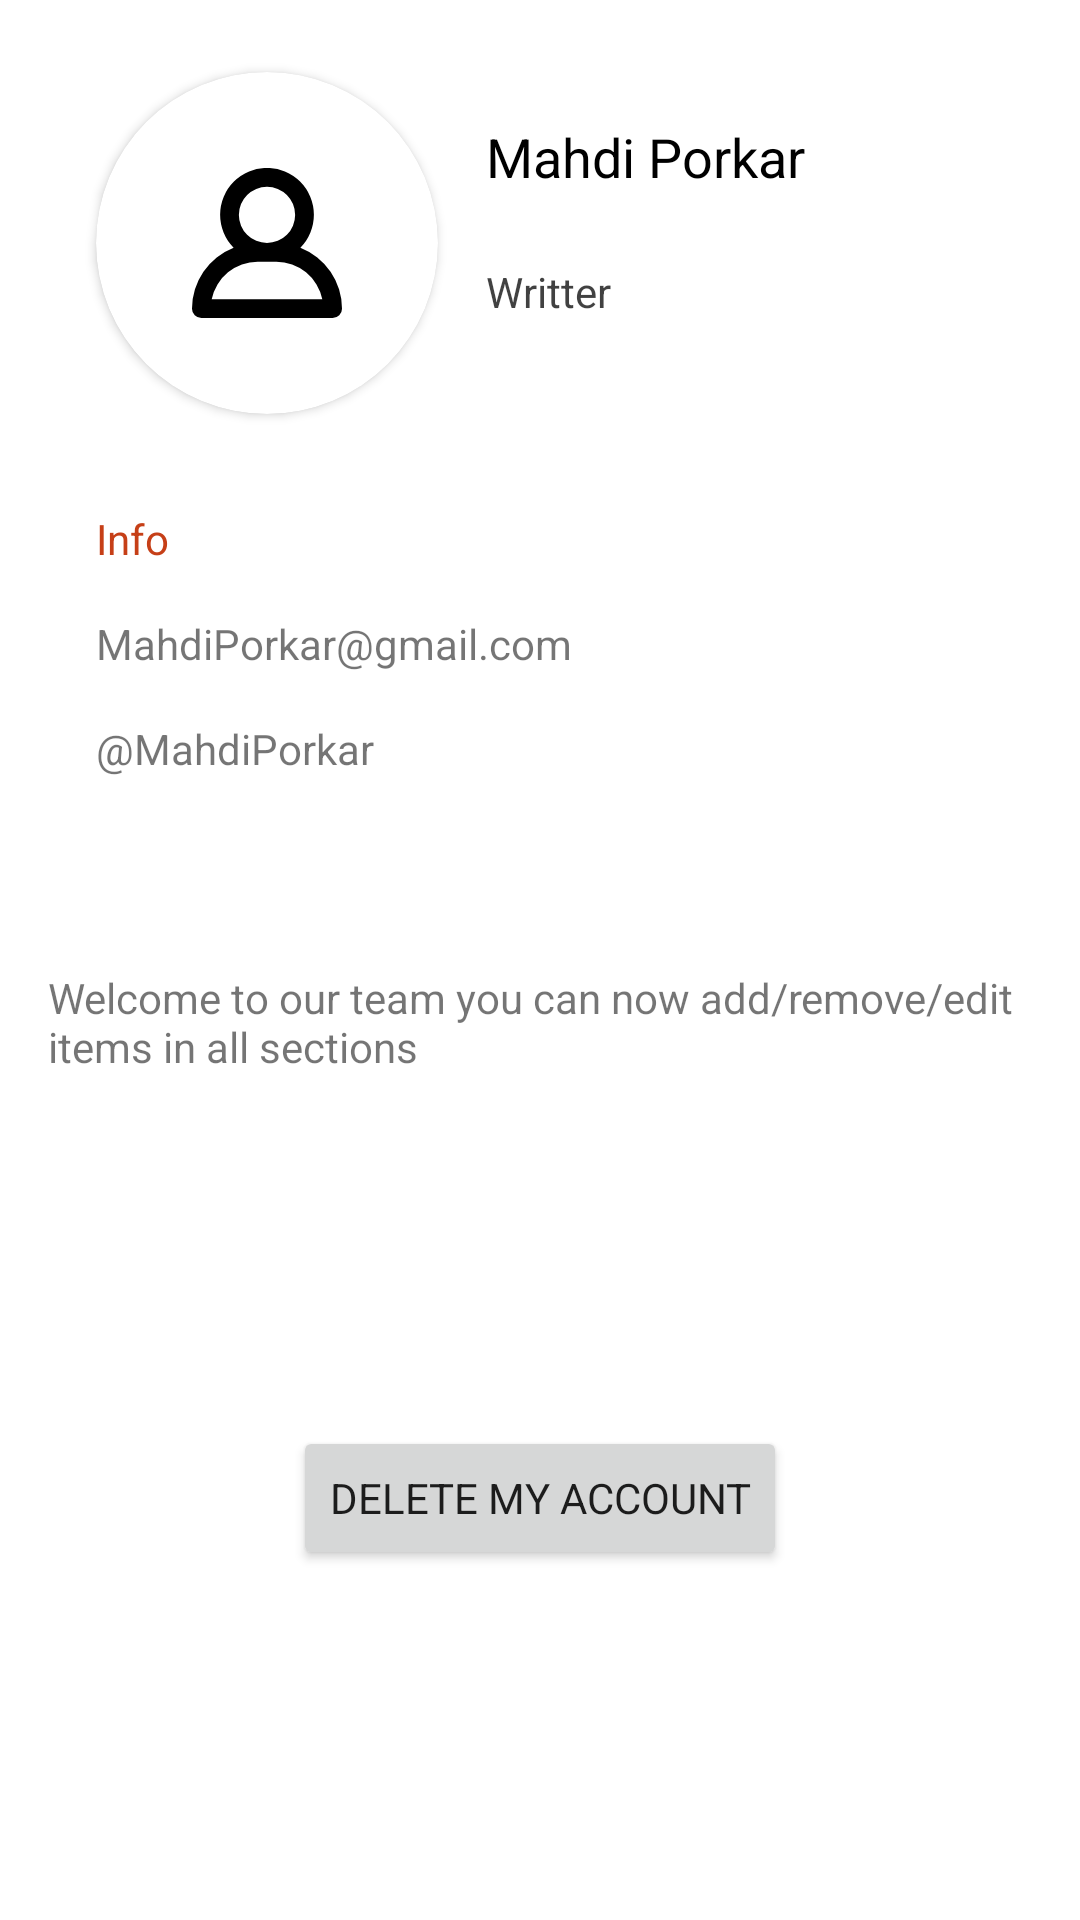

Named icons in this screenshot (1080 × 1920) and their centers, [x,y]:
profile: [267,243]
